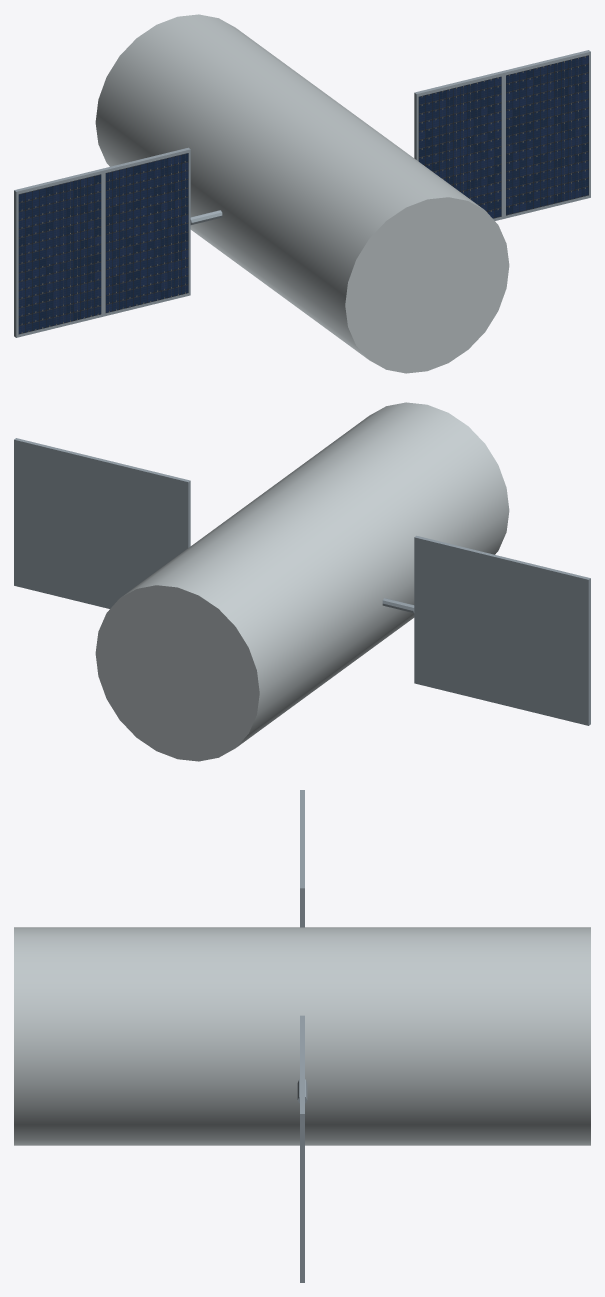
Rendered from ref-spcm-65616.glb.
3 renders of one model, top to bottom at view 1: azimuth 30°, elevation 25°; view 2: azimuth 150°, elevation 25°; view 3: azimuth 270°, elevation 25°, orthographic. The views are drawn at different scales.
Parts seen in each view (by area): view 1: Spacecraft body, Photovoltaic laminates (×4), Array frame (×4); view 2: Spacecraft body, Array frame (×4); view 3: Spacecraft body, Array frame.
Part boxes in pixels (x1,y1,x2,y2): Spacecraft body: (95, 14, 509, 373); Photovoltaic laminates (×4): (18, 55, 588, 334); Array frame (×4): (14, 50, 590, 337); Spacecraft body: (95, 402, 509, 761); Array frame (×4): (14, 438, 590, 725); Spacecraft body: (14, 927, 590, 1145); Array frame: (300, 1065, 304, 1282).
Bounding box in the file's own units: 10.5 × 3 × 7.9.
3 materials, 1 textured.
